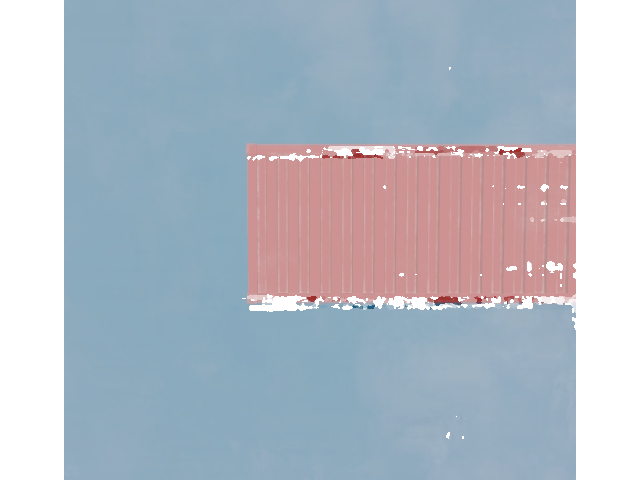container5: (245, 139, 640, 307)
